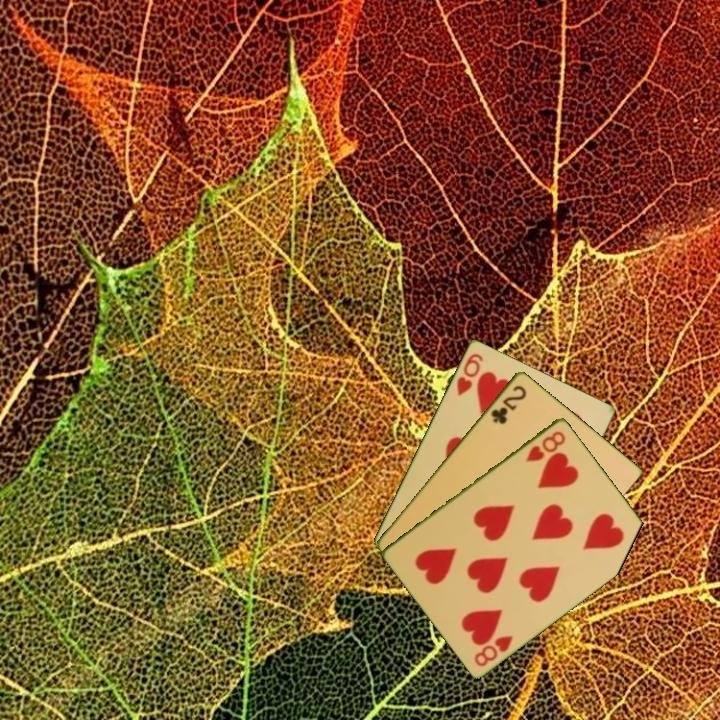2c: (487, 381, 529, 427)
6h: (453, 349, 486, 399)
8h: (522, 427, 569, 464), (470, 632, 516, 669)
